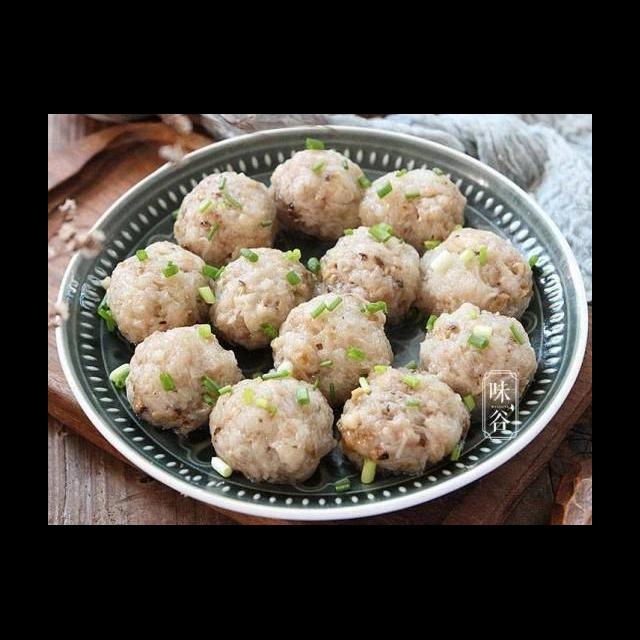vien moc: (332, 361, 471, 478), (267, 288, 396, 410), (121, 320, 245, 444), (208, 374, 340, 490), (416, 299, 540, 416), (96, 238, 221, 352), (412, 225, 536, 332), (206, 242, 320, 354), (354, 160, 469, 262), (172, 170, 282, 276), (315, 222, 425, 328), (267, 144, 375, 248)
